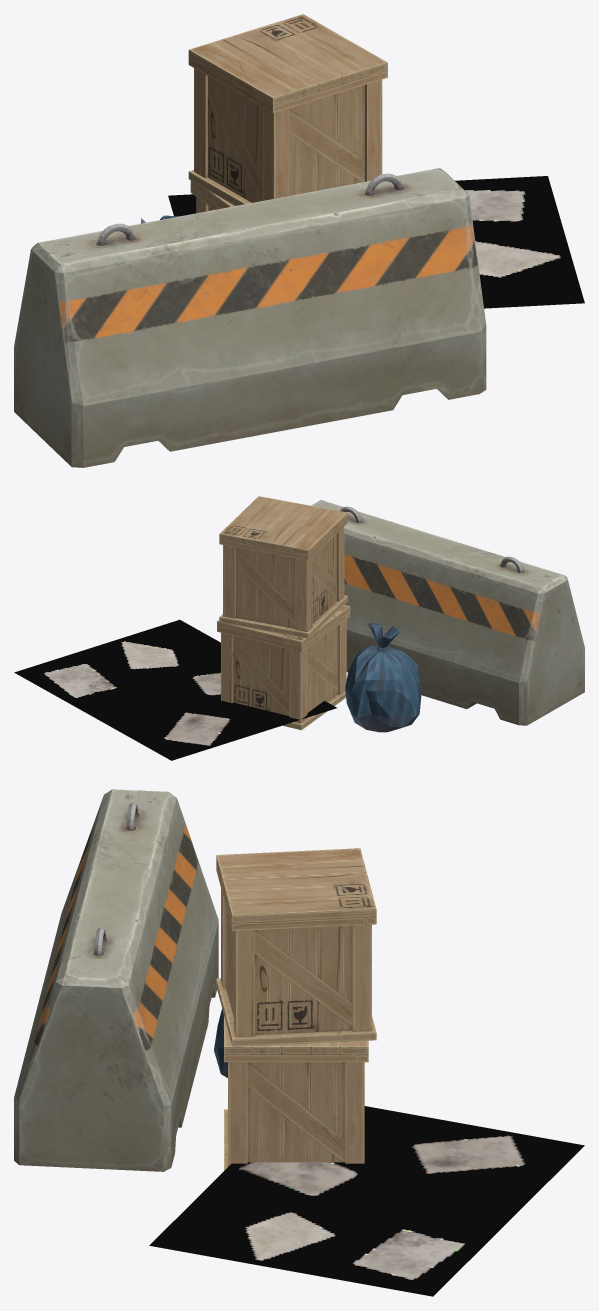
File: WarehouseManager_13.obj
The picture shows the model from 3 angles, top to bottom: view 1: azimuth 30°, elevation 25°; view 2: azimuth 150°, elevation 25°; view 3: azimuth 270°, elevation 25°; orthographic projection. The views are drawn at different scales.
Bounding box in the file's own units: 3.34 × 1.29 × 2.48.
Materials: 5 (5 with a texture image).
